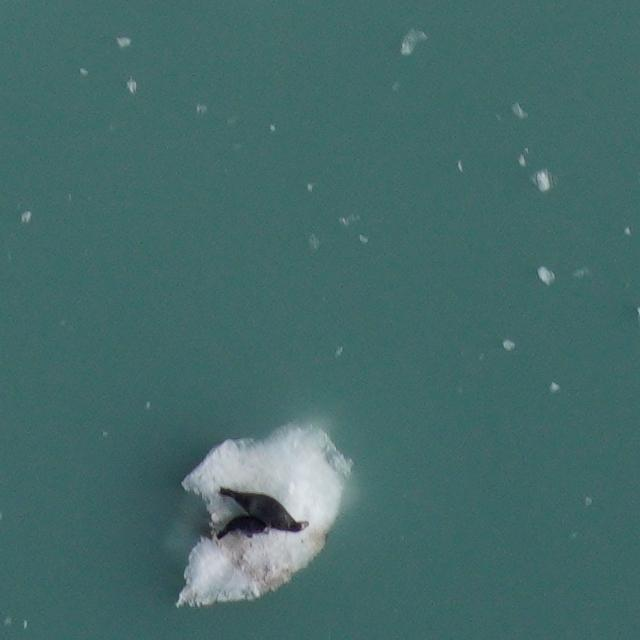seal: (216, 485, 313, 535), (216, 510, 274, 542)
